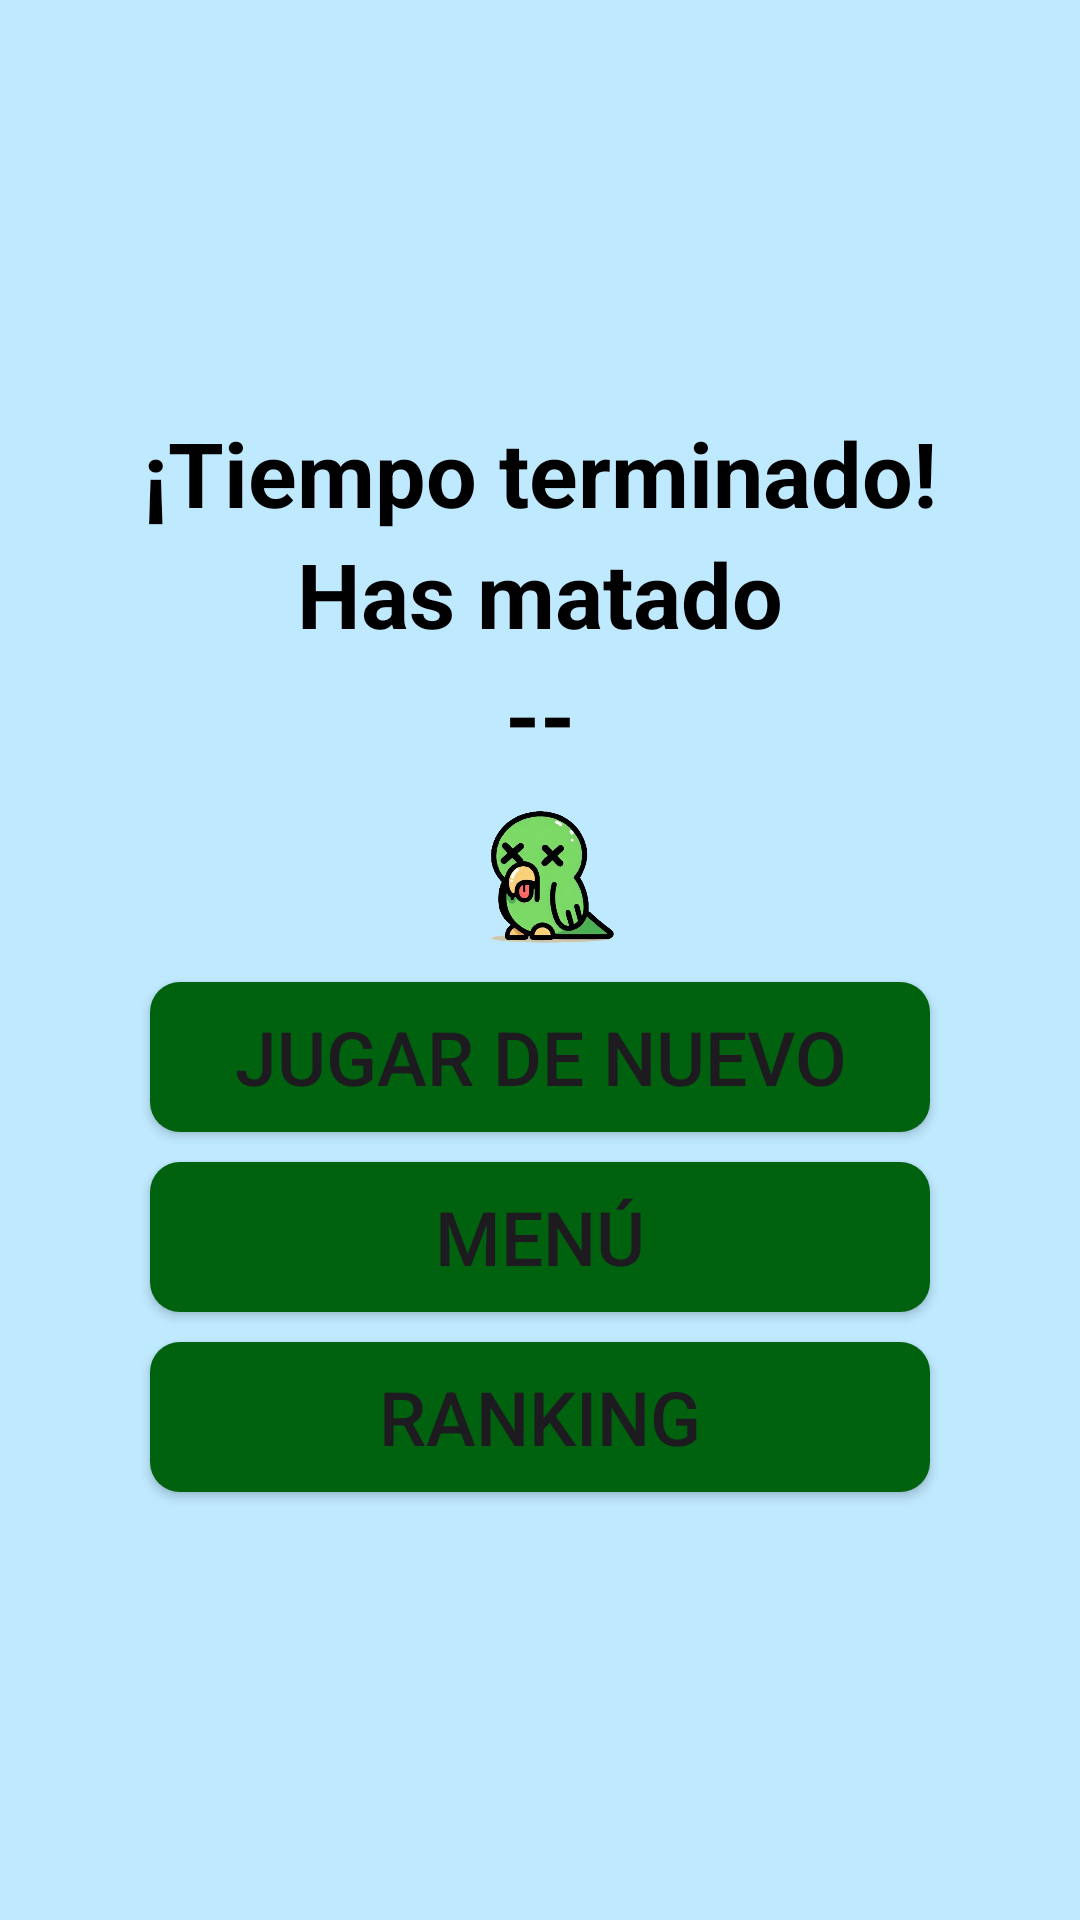

Icon bounding boxes for this 1080*1920 phone screenshot, format (x1, y1, x2, y2):
cotorra dead: (491, 811, 614, 943)
